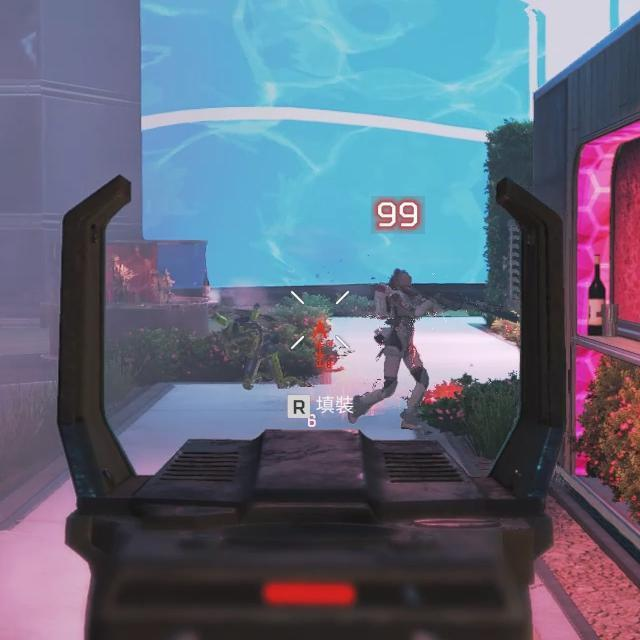avatar: (371, 264, 436, 432)
